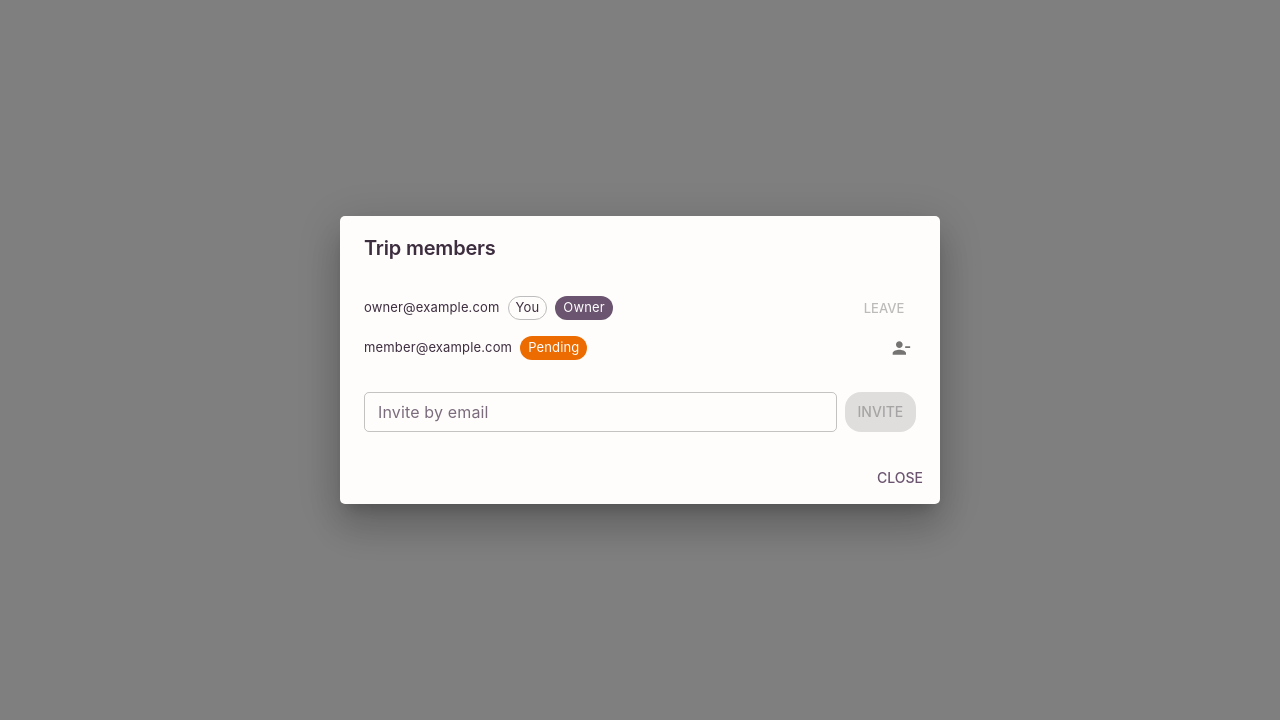
Test: TripMembersDialog › surfaces the thrown error message inline when invite fails
Step 1. Type "ghost@example.com" into the field labelled "Invite by email" → (600, 412), box [364,392,837,432]
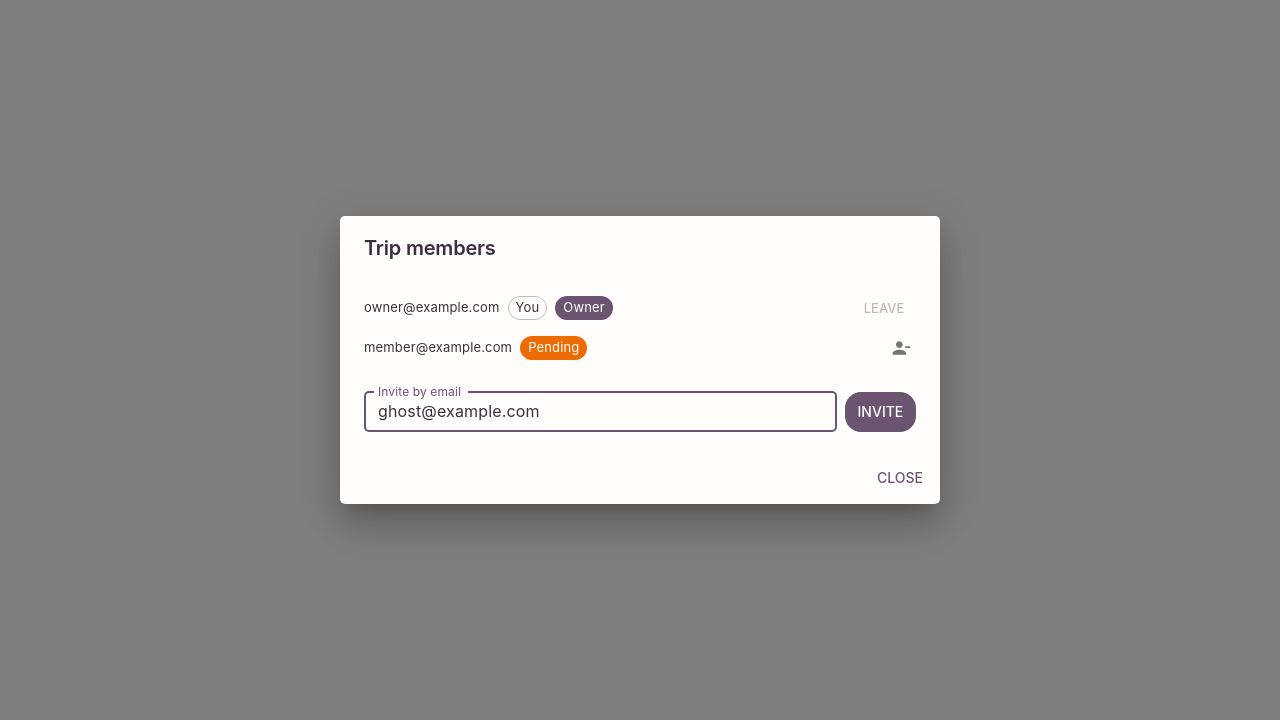
Step 2. Click the button "Invite" → (880, 412), box [845,392,916,432]
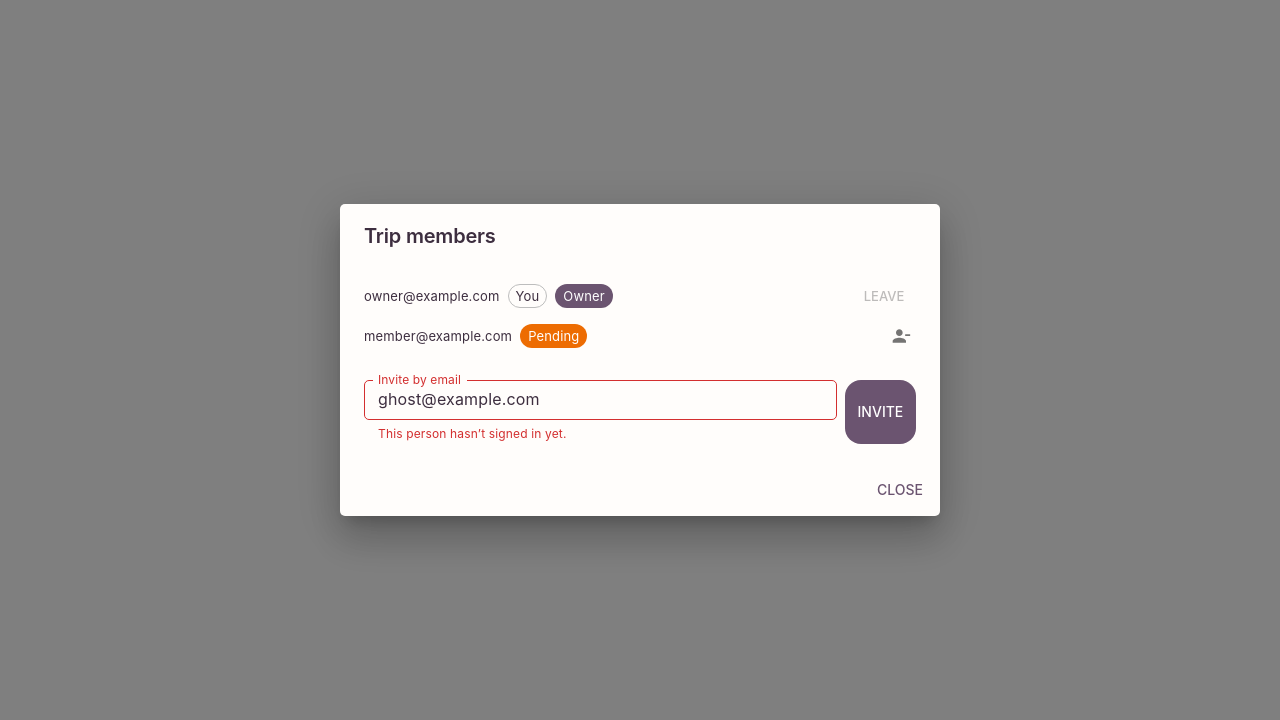
Expected: the text "This person hasn’t signed in yet." is shown, [378,426,567,441]
